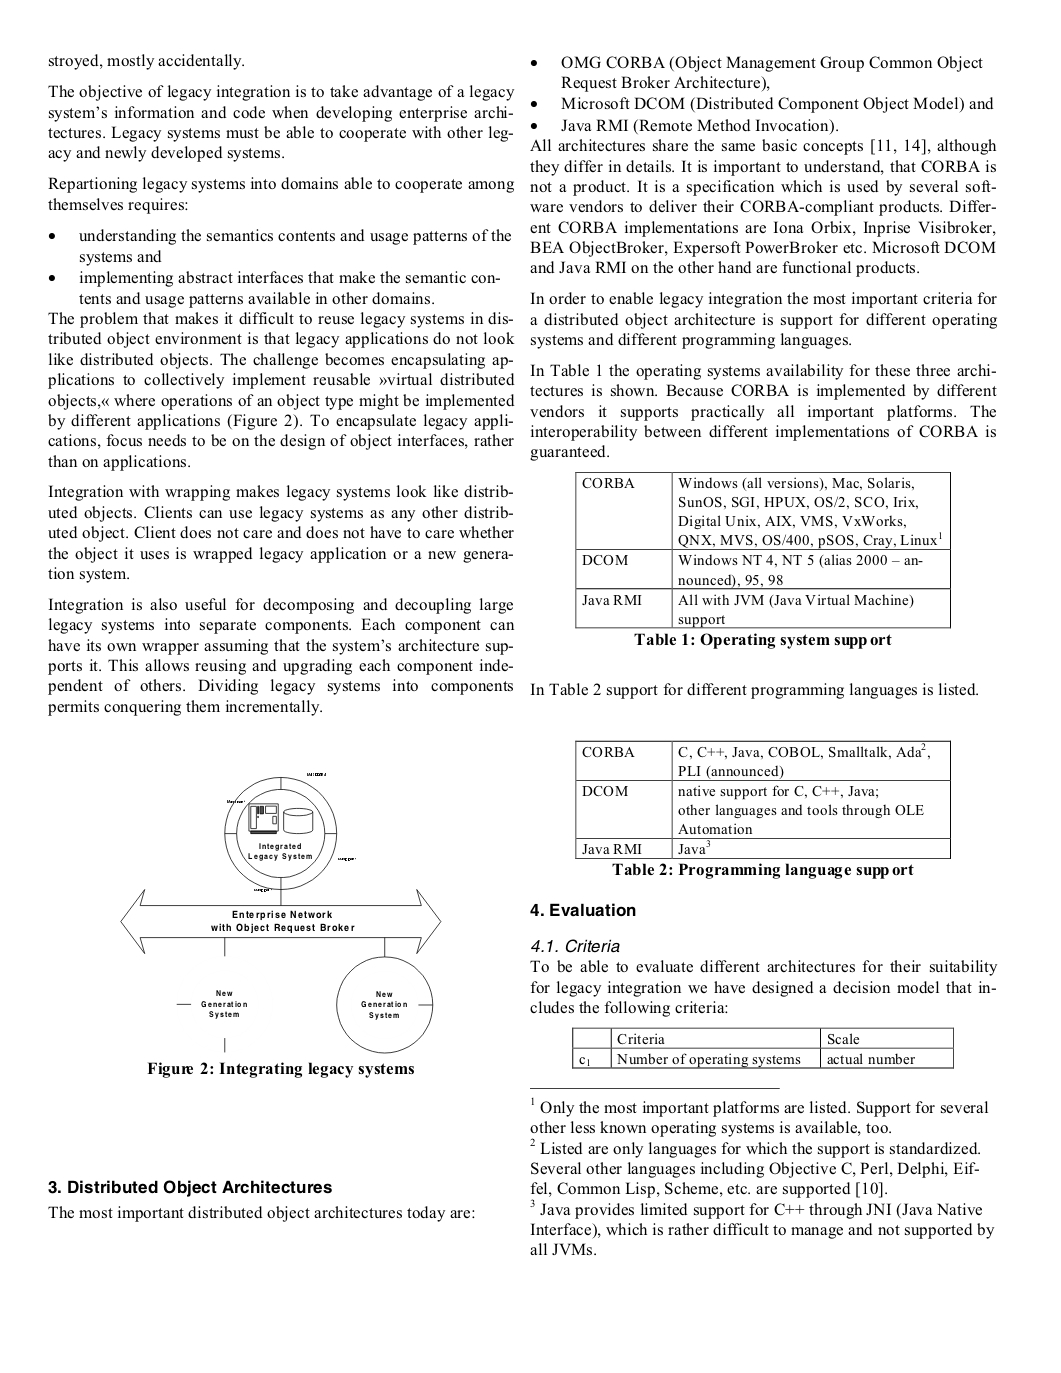Table: (575, 471, 950, 629), (575, 739, 950, 859), (572, 1026, 953, 1069)
figure: (120, 772, 441, 1054)
